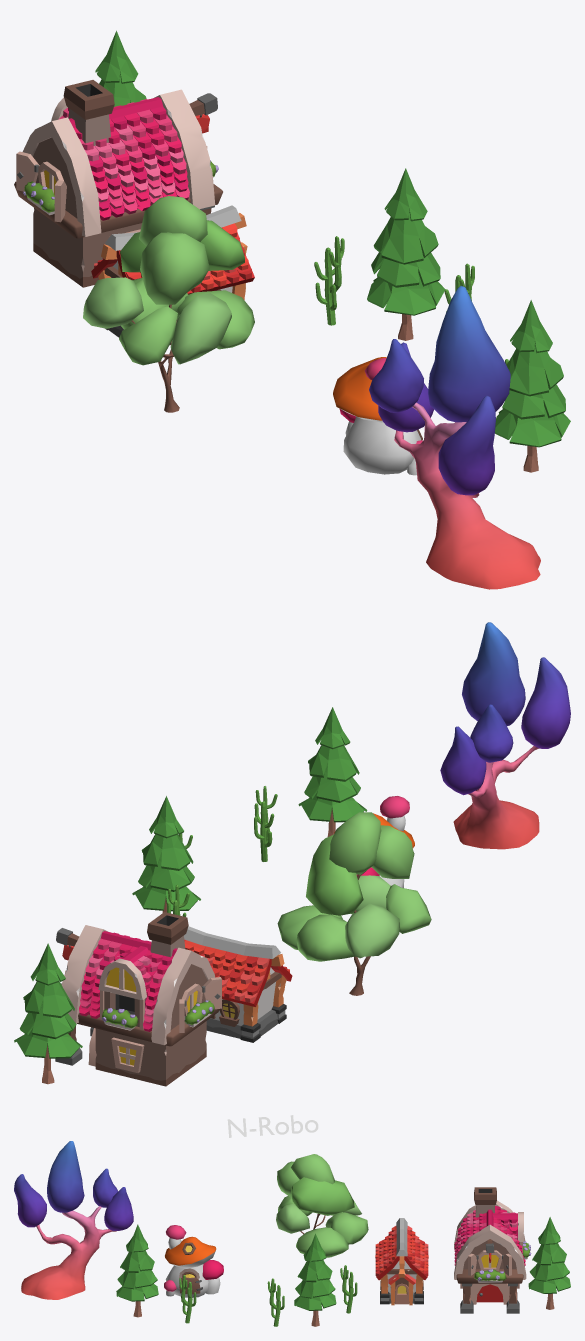
File: pb_san.glb
The picture shows the model from 3 angles, top to bottom: view 1: azimuth 30°, elevation 25°; view 2: azimuth 150°, elevation 25°; view 3: azimuth 270°, elevation 25°; orthographic projection. The views are drawn at different scales.
Visible parts, largest first — view 1: house_002, fabulous_mushroom_002, tree_001, fir_001, fir_001.001, house_001, house_003, fir_001.002, cactus_001.002; view 2: house_002, fabulous_mushroom_002, tree_001, house_003, fir_001.002, fir_001.001, fir_001, house_001, cactus_001.001; view 3: fabulous_mushroom_002, house_002, tree_001, house_003, house_001, fir_001.002, fir_001.001, fir_001, N-ROBO, cactus_001.001, cactus_001.002, cactus_001.
Part boxes in pixels (x1=…): house_002: x1=14, y1=80, x2=222, y2=287; fabulous_mushroom_002: x1=369, y1=286, x2=540, y2=589; tree_001: x1=83, y1=196, x2=254, y2=412; fir_001: x1=367, y1=168, x2=445, y2=340; fir_001.001: x1=495, y1=300, x2=570, y2=472; house_001: x1=333, y1=357, x2=422, y2=475; house_003: x1=91, y1=205, x2=254, y2=337; fir_001.002: x1=95, y1=30, x2=146, y2=106; cactus_001.002: x1=314, y1=236, x2=344, y2=325; house_002: x1=55, y1=912, x2=222, y2=1086; fabulous_mushroom_002: x1=440, y1=622, x2=570, y2=849; tree_001: x1=277, y1=812, x2=431, y2=995; house_003: x1=184, y1=926, x2=292, y2=1042; fir_001.002: x1=14, y1=943, x2=82, y2=1084; fir_001.001: x1=298, y1=707, x2=367, y2=836; fir_001: x1=132, y1=796, x2=200, y2=912; house_001: x1=333, y1=796, x2=414, y2=887; cactus_001.001: x1=254, y1=786, x2=277, y2=861; fabulous_mushroom_002: x1=14, y1=1141, x2=133, y2=1299; house_002: x1=454, y1=1187, x2=531, y2=1313; tree_001: x1=276, y1=1154, x2=368, y2=1257; house_003: x1=375, y1=1218, x2=428, y2=1305; house_001: x1=164, y1=1225, x2=223, y2=1297; fir_001.002: x1=528, y1=1217, x2=570, y2=1309; fir_001.001: x1=116, y1=1224, x2=158, y2=1317; fir_001: x1=294, y1=1233, x2=336, y2=1326; N-ROBO: x1=227, y1=1115, x2=318, y2=1137; cactus_001.001: x1=179, y1=1275, x2=196, y2=1323; cactus_001.002: x1=340, y1=1265, x2=357, y2=1313; cactus_001: x1=267, y1=1278, x2=284, y2=1326.
Size of the model in its own units: 12.86 by 13.3 by 34.11.
1 material, 1 textured.
